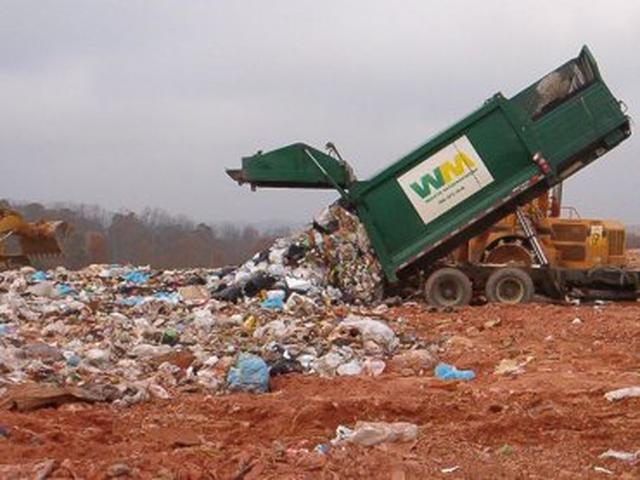garbage: (15, 281, 337, 370)
